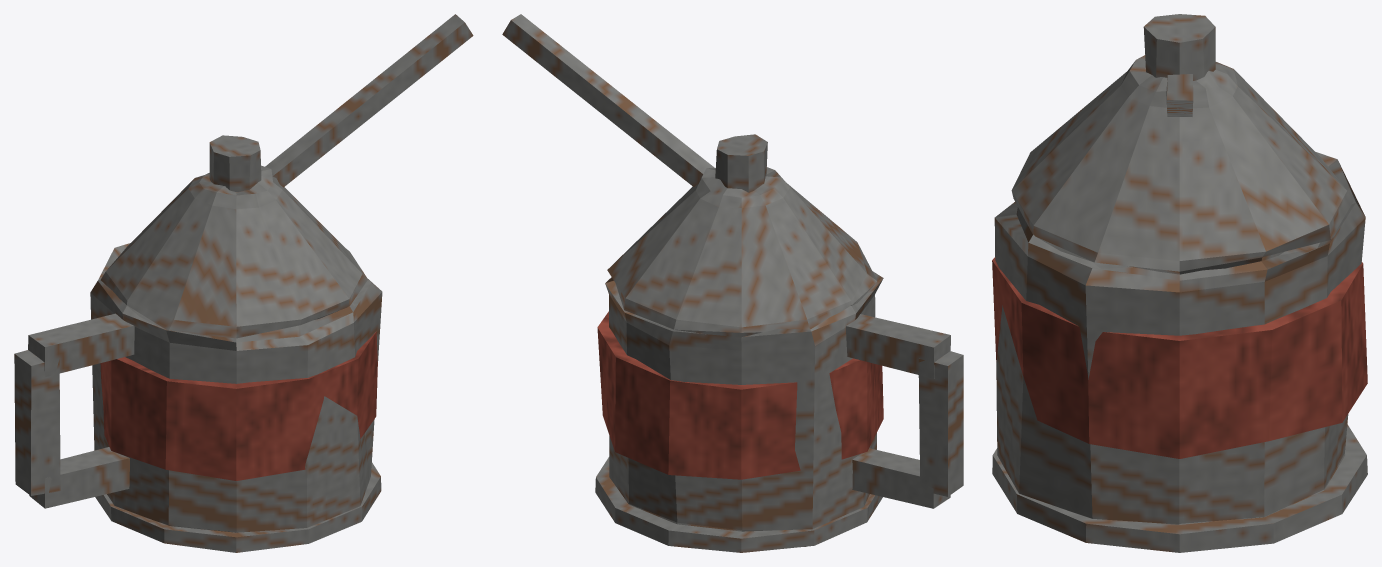
Rendered from sorter_boost_oil.glb.
The picture shows the model from 3 angles, left to right: view 1: azimuth 30°, elevation 25°; view 2: azimuth 150°, elevation 25°; view 3: azimuth 270°, elevation 25°; orthographic projection. The views are drawn at different scales.
Visible parts, largest first — view 1: SorterBoostOil; view 2: SorterBoostOil; view 3: SorterBoostOil.
Part boxes in pixels (x1=…): SorterBoostOil: x1=14, y1=14, x2=473, y2=552; SorterBoostOil: x1=502, y1=14, x2=963, y2=552; SorterBoostOil: x1=992, y1=14, x2=1367, y2=552.
Bounding box in the file's own units: 0.4386 × 0.4004 × 0.2469.
2 materials, 2 textured.
